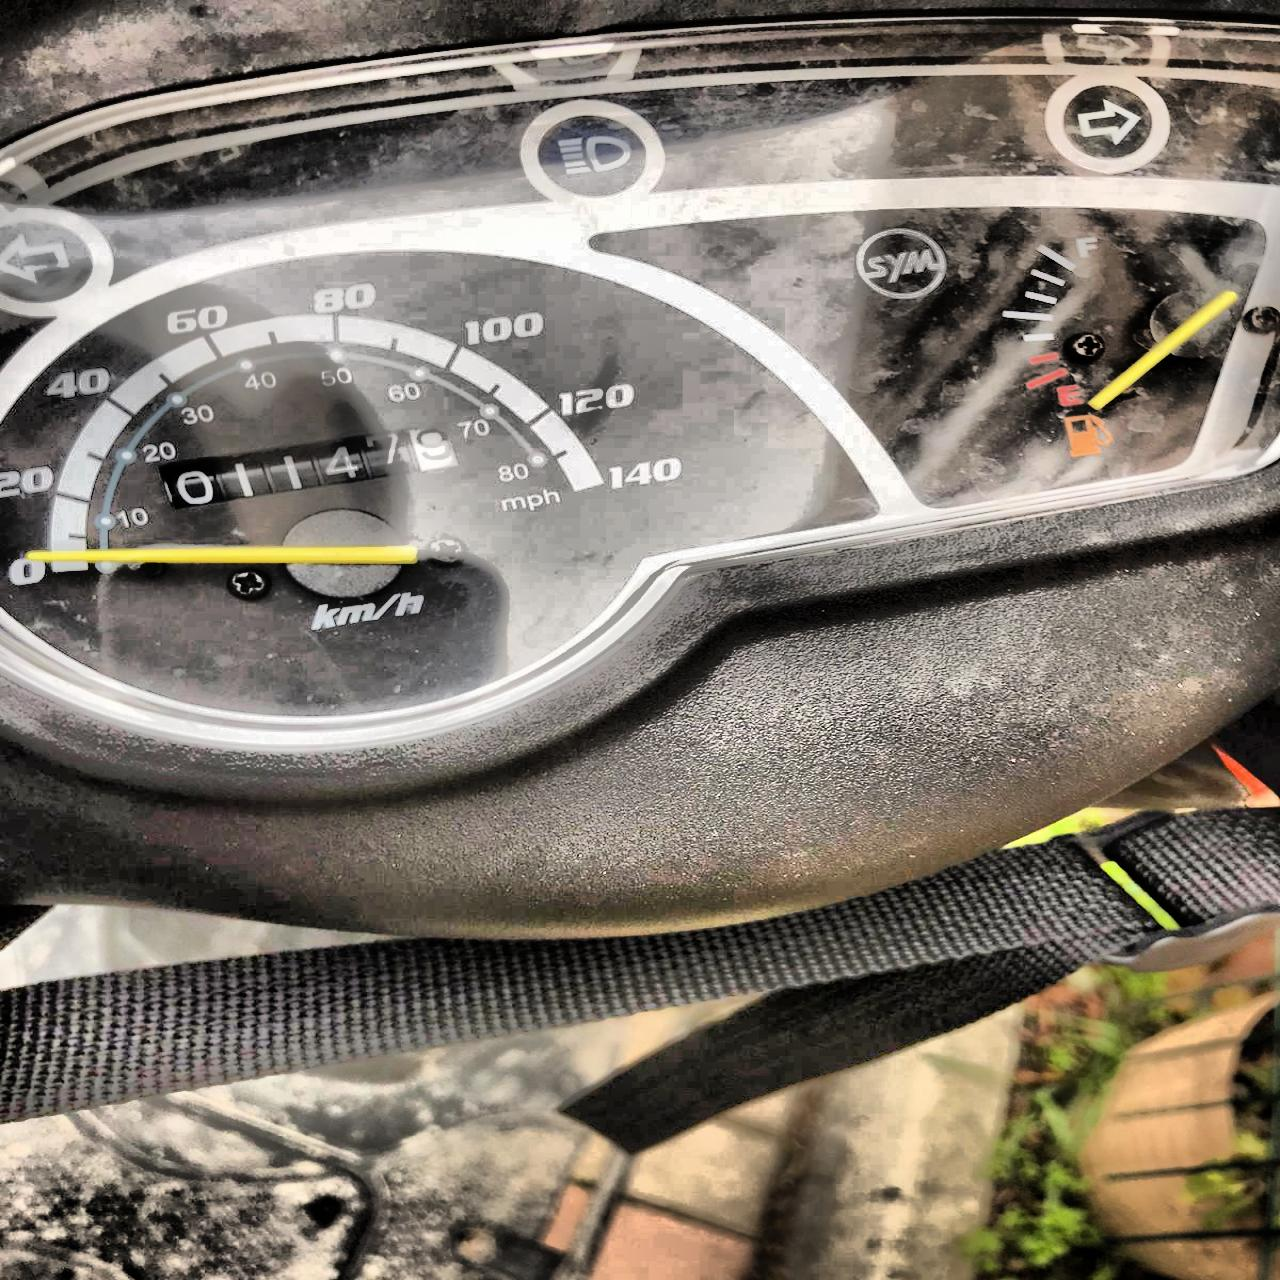0: (172, 468, 216, 509), (157, 440, 179, 459)
1: (277, 452, 306, 496), (231, 457, 258, 501)
4: (321, 444, 363, 482)
7: (365, 428, 400, 467)
9: (413, 429, 455, 469)
odometer: (154, 424, 462, 516)
